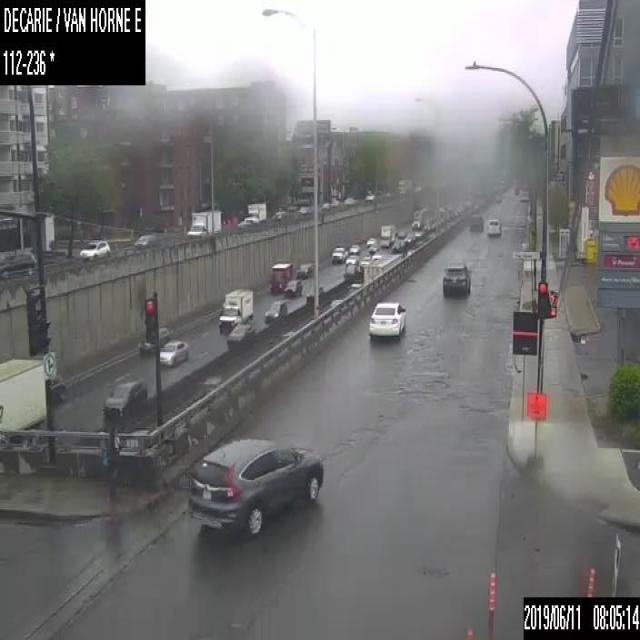construction: (526, 391, 546, 468), (486, 572, 494, 639), (586, 564, 596, 596), (464, 626, 472, 638)
vehicle: (184, 436, 324, 535), (0, 356, 47, 432), (102, 373, 146, 415), (217, 287, 253, 332), (366, 300, 406, 337), (363, 253, 402, 285), (441, 262, 471, 298), (0, 249, 36, 275), (158, 339, 189, 367), (185, 210, 221, 234), (138, 326, 168, 353), (268, 260, 292, 293), (226, 322, 253, 348), (80, 239, 110, 260), (200, 373, 224, 398), (263, 300, 287, 322), (47, 378, 65, 406), (243, 200, 264, 222), (133, 232, 162, 247), (484, 213, 502, 236), (379, 224, 394, 247), (305, 284, 323, 302), (330, 246, 347, 263), (284, 280, 302, 296), (411, 209, 426, 228), (296, 262, 312, 278), (346, 282, 362, 296), (469, 212, 482, 229), (346, 254, 358, 266), (272, 209, 284, 220), (348, 243, 358, 254), (368, 242, 378, 252), (359, 255, 370, 264), (365, 237, 376, 246), (364, 192, 374, 201), (320, 201, 330, 209), (344, 196, 354, 203), (403, 234, 411, 242), (397, 230, 406, 237)
